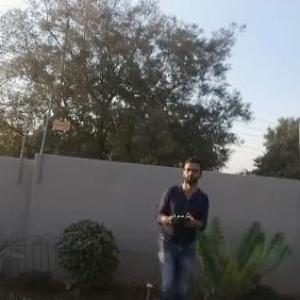follow: (147, 150, 213, 299)
